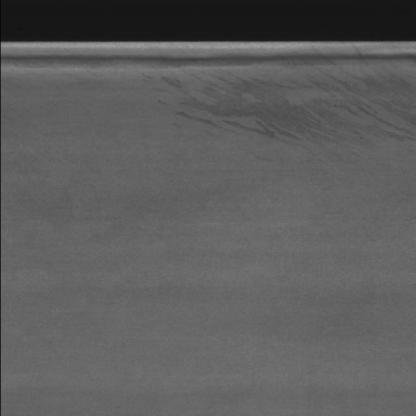water_spot: (1, 49, 416, 151)
